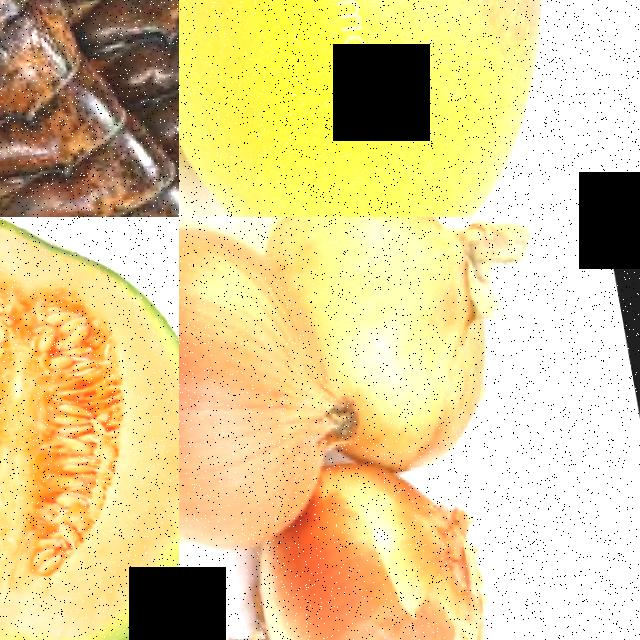lobster tails: (0, 0, 173, 217), (22, 0, 179, 204)
mango: (179, 0, 609, 217)
melon: (0, 217, 179, 640)
onion: (270, 217, 521, 477), (179, 217, 331, 568), (235, 472, 523, 640)
